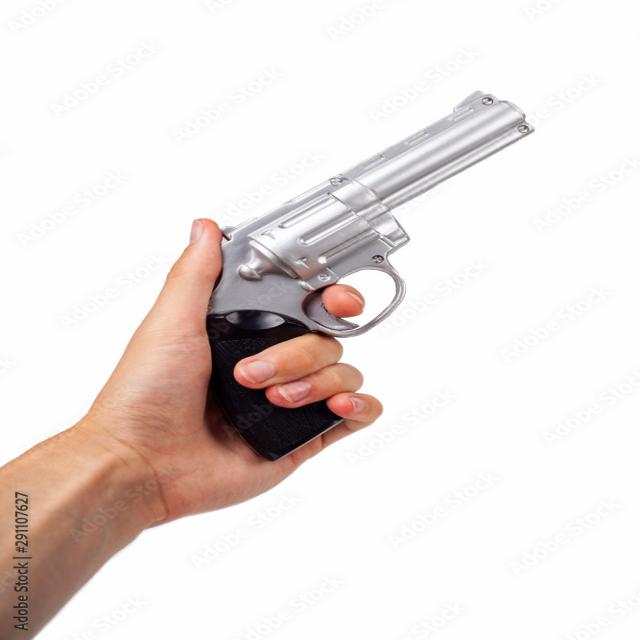HandGun: (206, 91, 534, 462)
